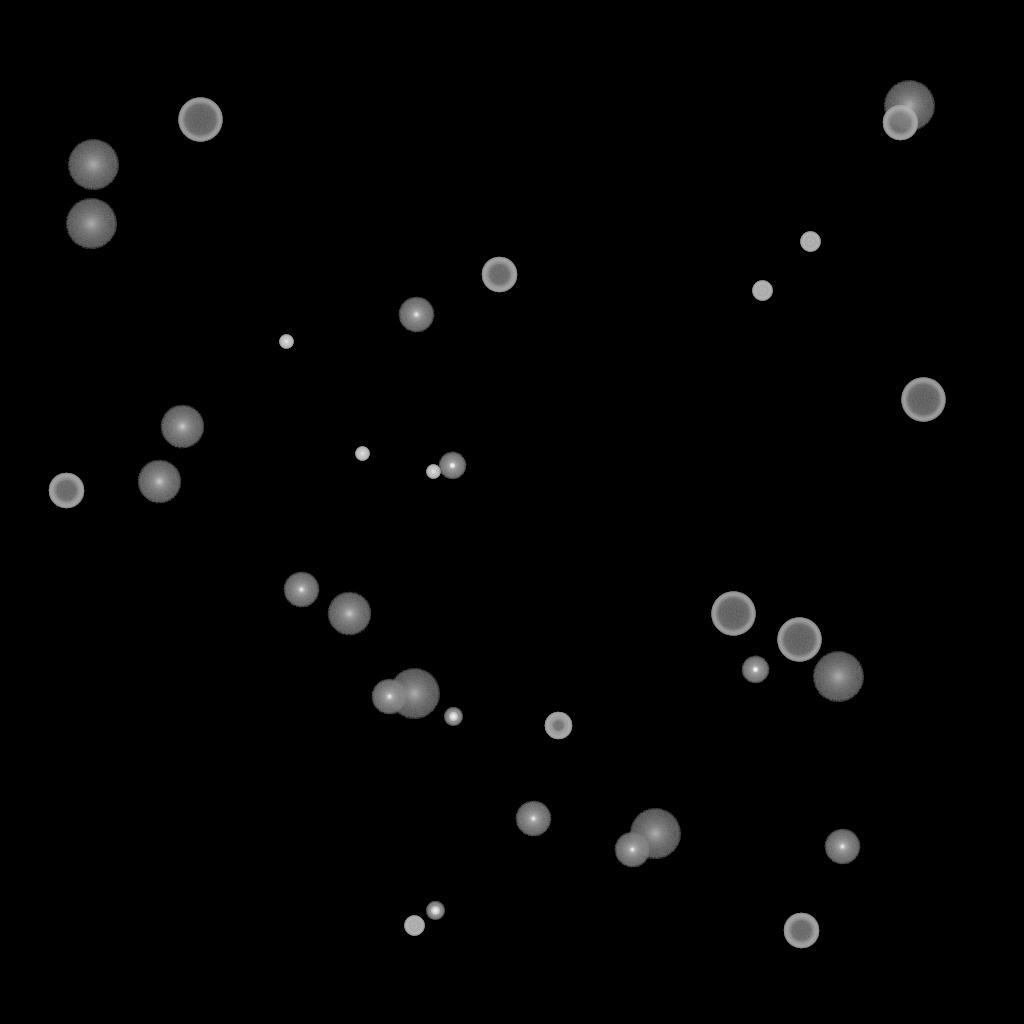depth:-10: (741, 656, 769, 684), (438, 452, 466, 480)
depth:-20: (444, 708, 462, 726), (426, 902, 444, 920)
depth:-30: (355, 447, 369, 461), (279, 335, 293, 349), (426, 465, 440, 479)
depth:-40: (404, 916, 424, 936), (800, 232, 820, 252), (752, 281, 772, 301)
depth:-50: (544, 712, 572, 740)
depth:-60: (481, 257, 517, 293), (783, 913, 819, 949), (48, 473, 84, 509), (882, 105, 918, 141)
depth:-70: (901, 378, 945, 422), (777, 618, 821, 662), (178, 98, 222, 142), (711, 592, 755, 636)
depth:0: (371, 679, 407, 715), (824, 829, 860, 865), (614, 832, 650, 868), (515, 801, 551, 837), (398, 297, 434, 333), (283, 572, 319, 608)
depth:10: (137, 460, 181, 504), (327, 592, 371, 636), (160, 405, 204, 449)
depth:20: (65, 199, 117, 249), (883, 81, 935, 131), (388, 669, 440, 719), (67, 140, 119, 190), (812, 652, 864, 702), (629, 809, 681, 859)
